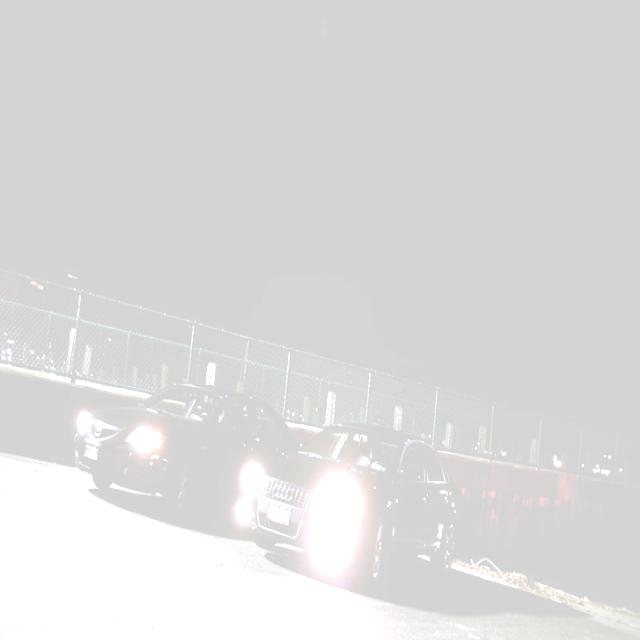Car: (84, 380, 463, 616)
